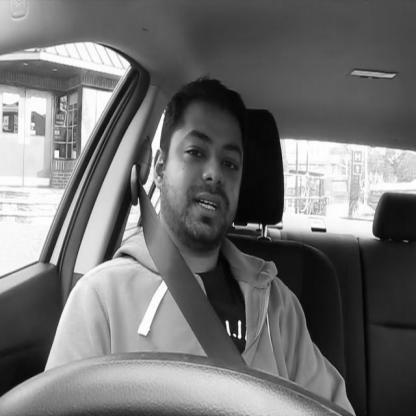seatbelt: (116, 46, 267, 370)
